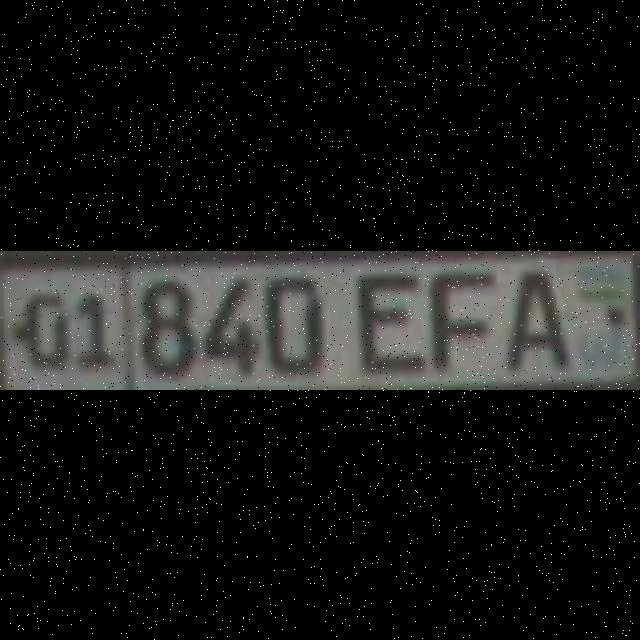0: (262, 274, 318, 370), (20, 286, 64, 362)
1: (67, 290, 111, 366)
4: (199, 274, 255, 370)
8: (135, 274, 191, 370)
A: (501, 262, 565, 366)
E: (354, 270, 422, 366)
F: (425, 266, 493, 366)
